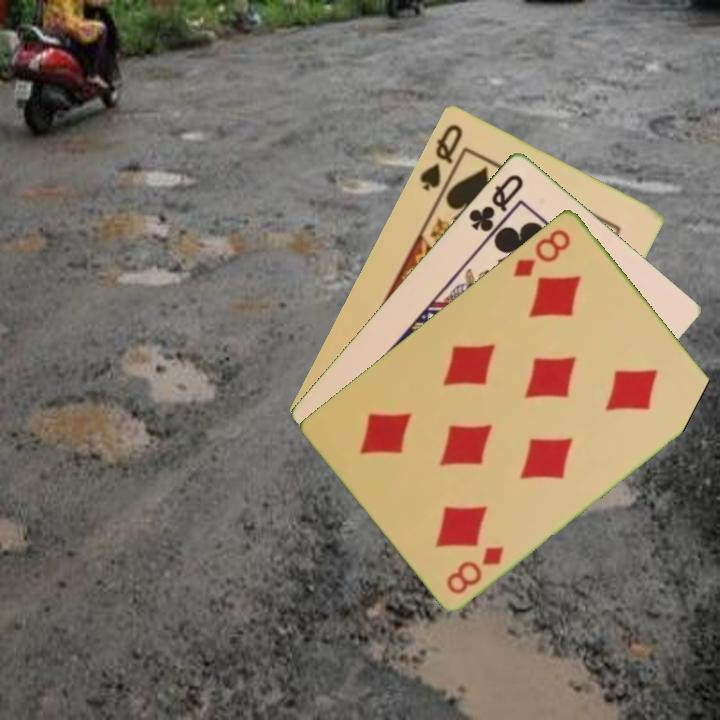8d: (442, 542, 508, 597), (510, 225, 574, 280)
Qc: (464, 169, 527, 234)
Qs: (416, 120, 466, 194)
